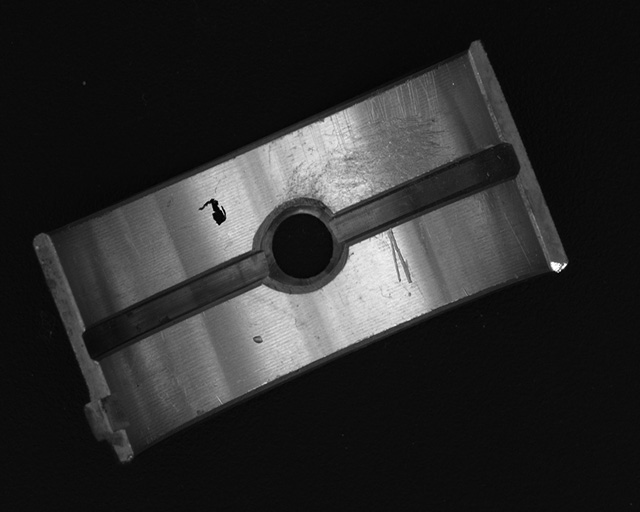blot: (198, 198, 227, 227)
bruise: (251, 334, 264, 345)
gap: (84, 249, 273, 359), (334, 144, 518, 243)
hole: (256, 198, 346, 289)
nick: (388, 227, 414, 286)
scratch: (275, 69, 445, 204)
